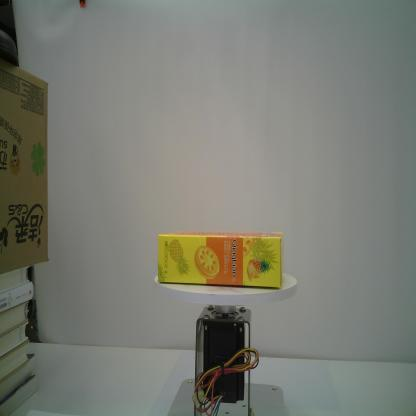Dessert: (158, 230, 284, 290)
